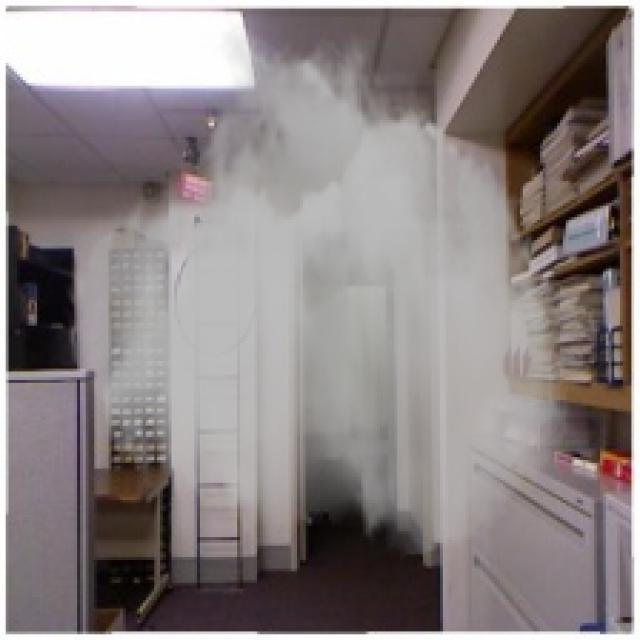Smoke: (63, 20, 600, 560)
